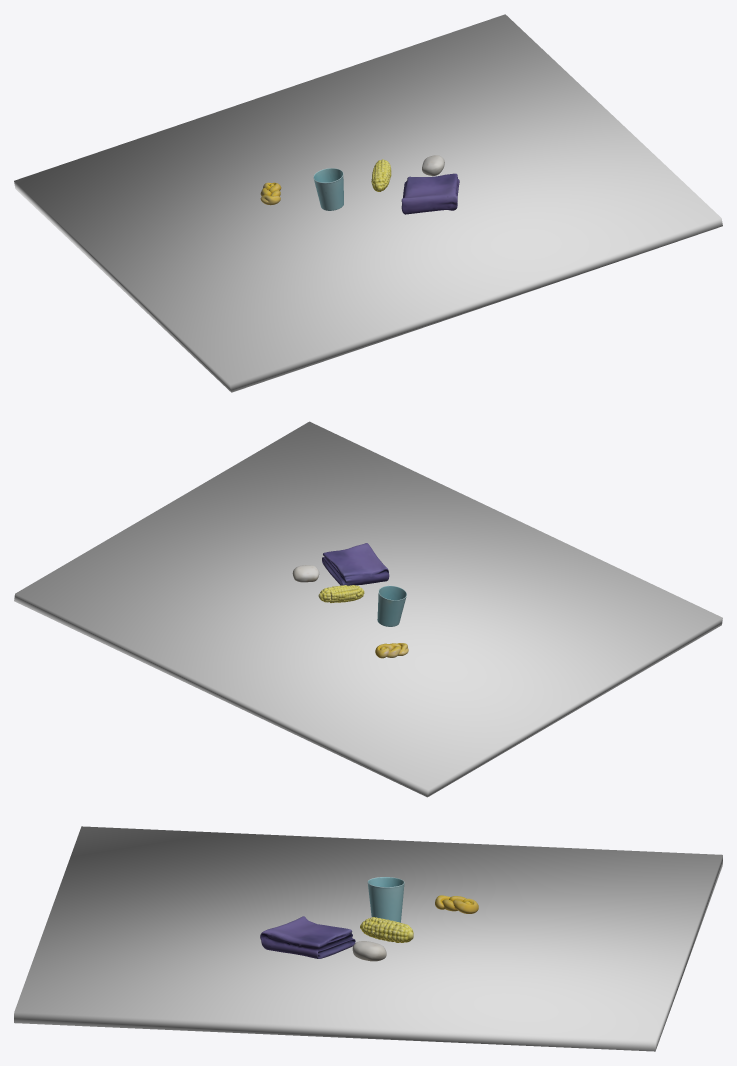
Rendered from rest3d.glb.
3 views of the same model, one above another, from view 1: azimuth 30°, elevation 25°; view 2: azimuth 150°, elevation 25°; view 3: azimuth 270°, elevation 25° (orthographic). The views are drawn at different scales.
Parts seen in each view (by area): view 1: ground, World; view 2: ground, World; view 3: ground, World.
Boxes of the visible parts, bbox=[...] form: ground: bbox=[14, 14, 722, 392]; World: bbox=[260, 155, 459, 214]; ground: bbox=[14, 421, 722, 797]; World: bbox=[292, 543, 408, 658]; ground: bbox=[14, 826, 722, 1051]; World: bbox=[260, 877, 478, 961].
Size of the model in its own units: 3.21 by 0.4925 by 3.16.
